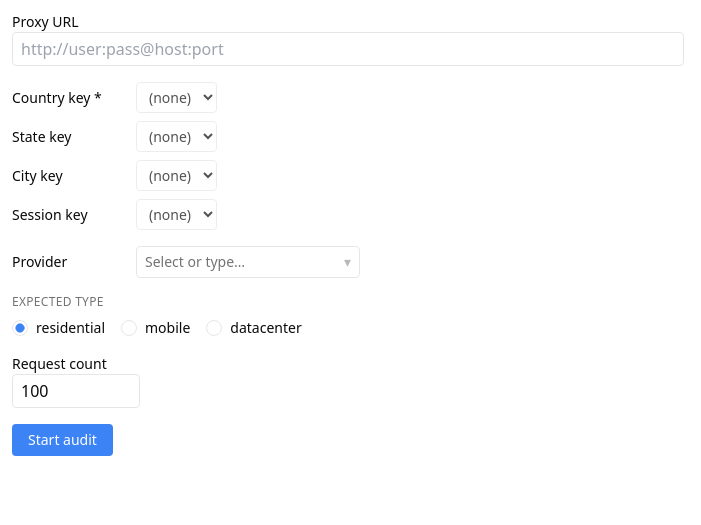
Scenario: AuditSetupForm — token picker › blocks submit when picked country key has no following value
Type "http://user-country-RO-tail:p@h:1" into the field labelled "Proxy URL" at (348, 49), box [12,32,684,66]
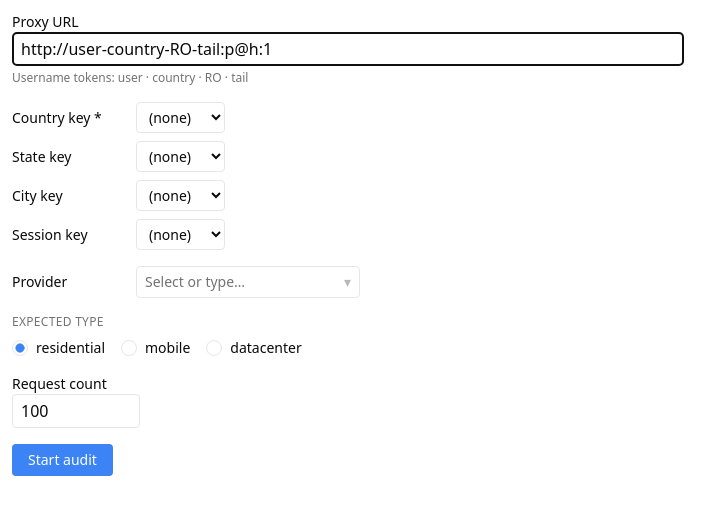
Select "tail" in the dropdown labelled "Country key *" at (180, 118), box [136,102,225,133]
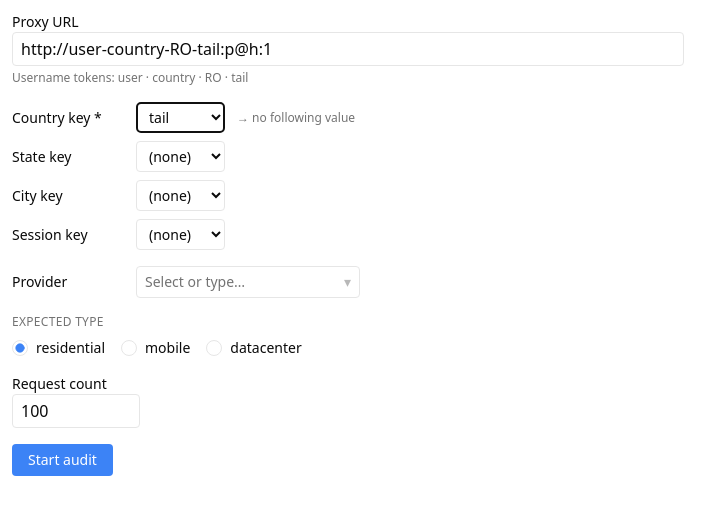
Click the button "Start audit" at (62, 460), box [12,444,113,476]
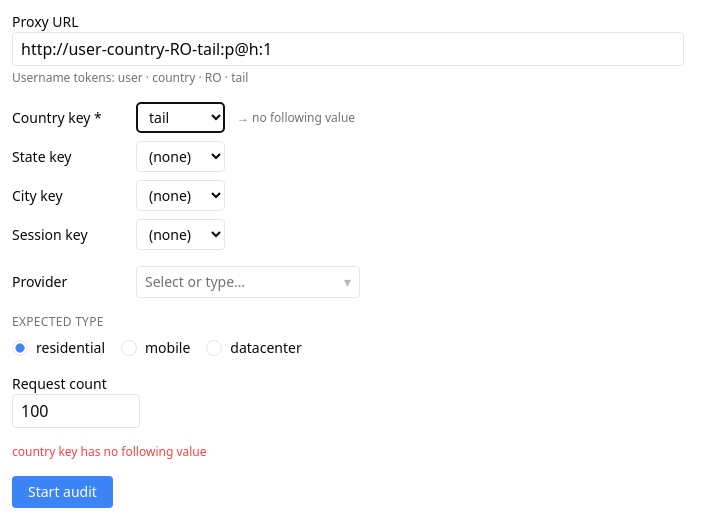
Check: the text "country key has no following value" is shown, box [12,443,206,460]
